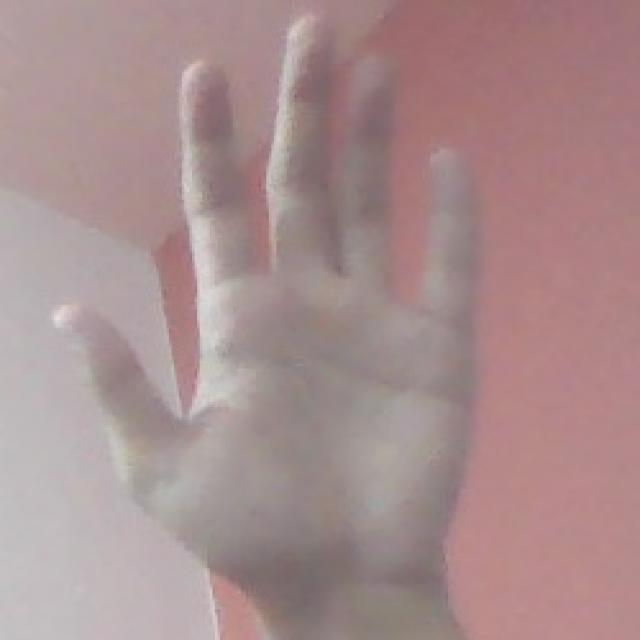Numeric-5: (51, 15, 478, 603)
